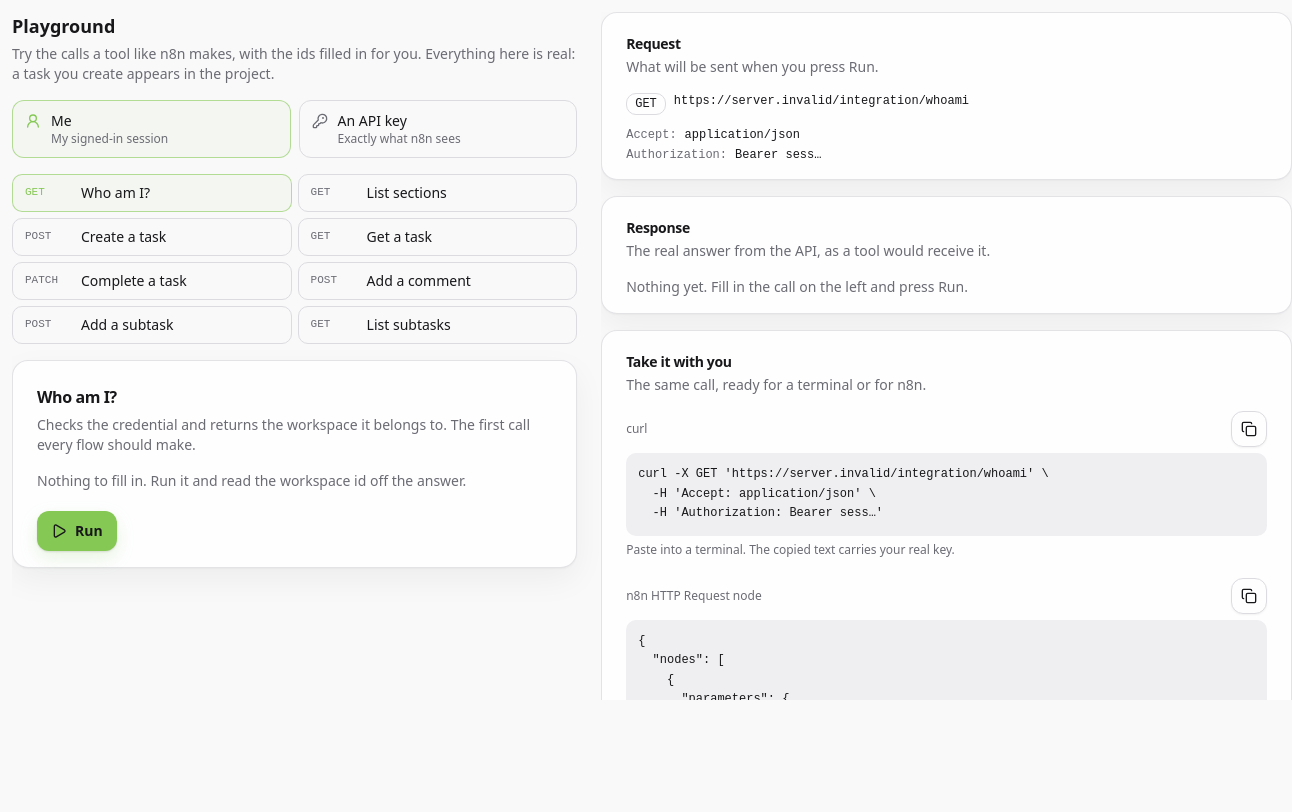
Test: PlaygroundPage › runs "who am I" as the signed-in person and shows the real answer
The image size is (1292, 812).
Expected: the text "Nothing to fill in" is shown, [37, 471, 466, 490]
Click the button "Run" at [77, 531], box [37, 511, 117, 551]
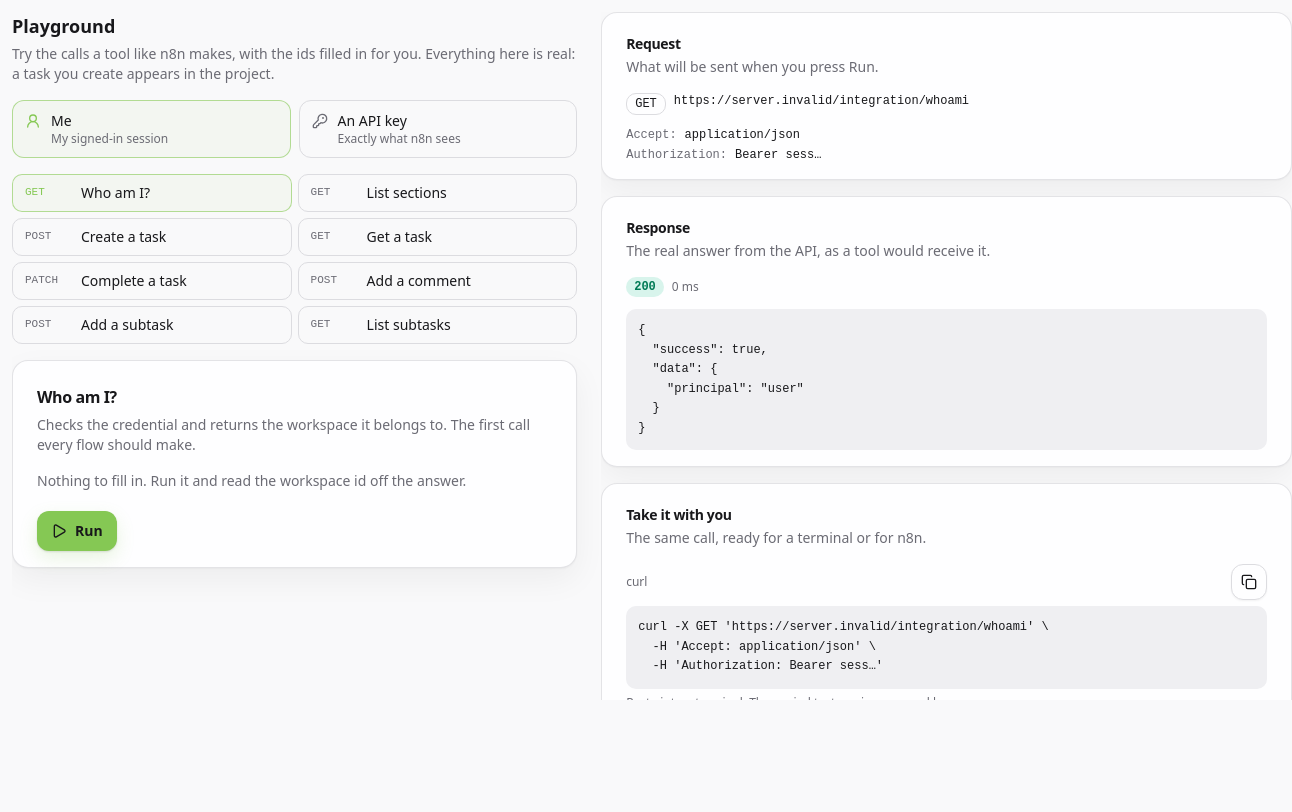
Expected: the 2nd text "GET" is shown, [25, 186, 45, 198]
Result: the text named "HTTP 200" is shown at [626, 277, 664, 297]
Result: the text with test id "playground-response" shows "\"principal\": \"user\"" at [638, 323, 804, 434]
